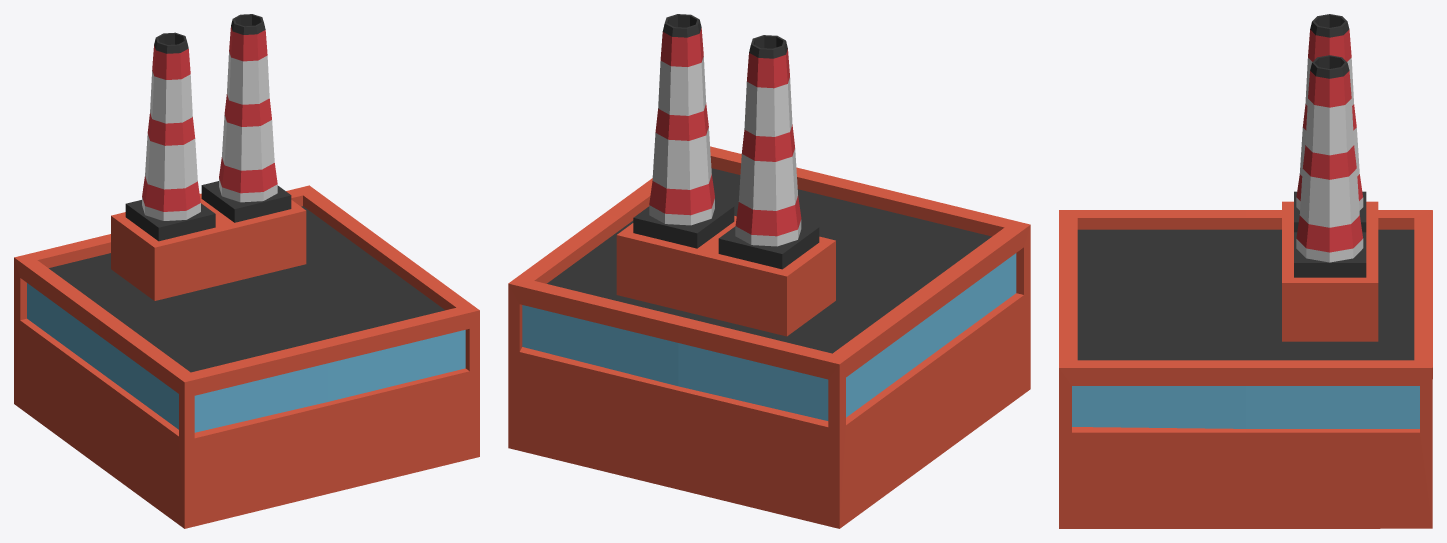
Rendered from MESHcoalpowerplant.fbx.
3 renders of one model, left to right at view 1: azimuth 30°, elevation 25°; view 2: azimuth 150°, elevation 25°; view 3: azimuth 270°, elevation 25°, orthographic. The views are drawn at different scales.
Visible parts, largest first — view 1: Cube; view 2: Cube; view 3: Cube.
Part boxes in pixels (x1=…): Cube: x1=14, y1=14, x2=479, y2=528; Cube: x1=508, y1=14, x2=1030, y2=528; Cube: x1=1059, y1=14, x2=1432, y2=528.
Bounding box in the file's own units: 375 × 452 × 375.
